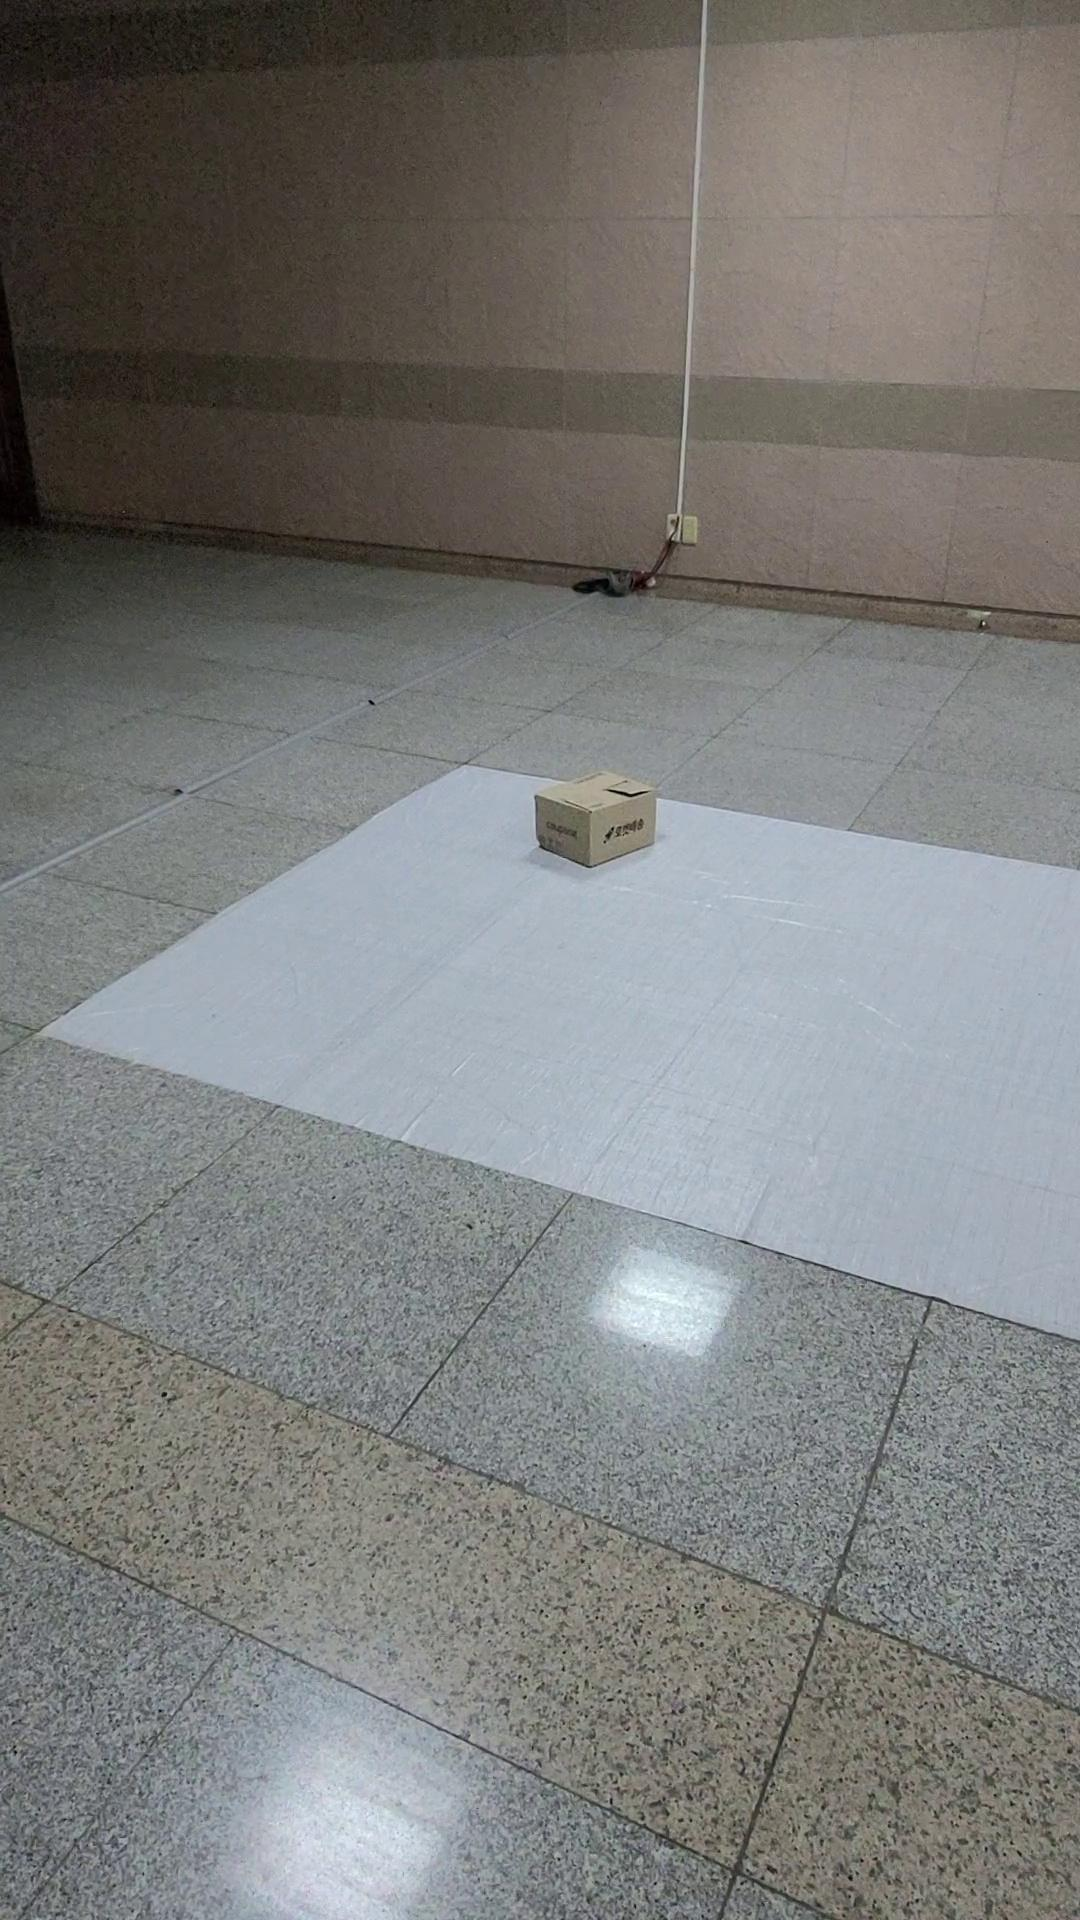Box: (512, 765, 692, 897)
